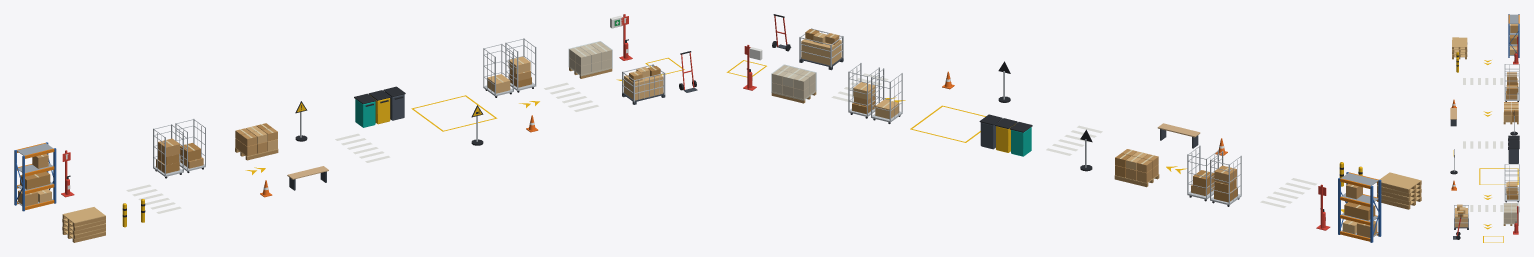
The model's file is einrichtung_gang.glb.
3 views of the same model, side by side, from view 1: azimuth 30°, elevation 25°; view 2: azimuth 150°, elevation 25°; view 3: azimuth 270°, elevation 25° (orthographic). The views are drawn at different scales.
Parts seen in each view (by area): view 1: einrichtung_gang; view 2: einrichtung_gang; view 3: einrichtung_gang.
Part boxes in pixels (x1,y1,x2,y2): einrichtung_gang: [14, 14, 697, 242]; einrichtung_gang: [726, 14, 1421, 242]; einrichtung_gang: [1450, 14, 1519, 242].
Bounding box in the file's own units: 24.59 × 2 × 3.7.
